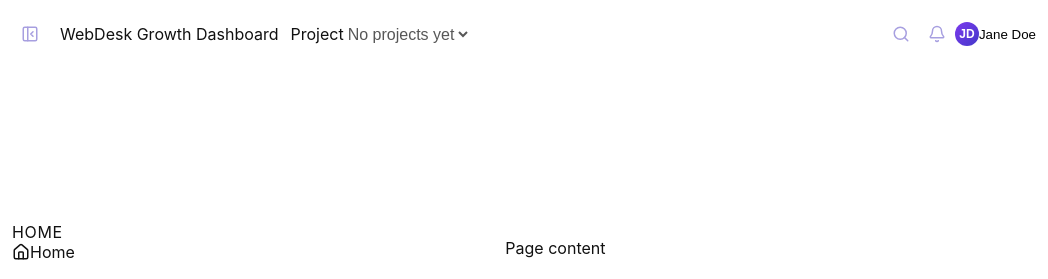
it: AppShell › sidebar collapse toggle › switches the nav links to icon-only (module icon, no label text) and back
This screenshot has width=1048, height=279.
Expected: the link "Home" is shown, [12,242,75,262]
Click the button named "Collapse sidebar".
click(30, 34)  # box [12,16,48,52]
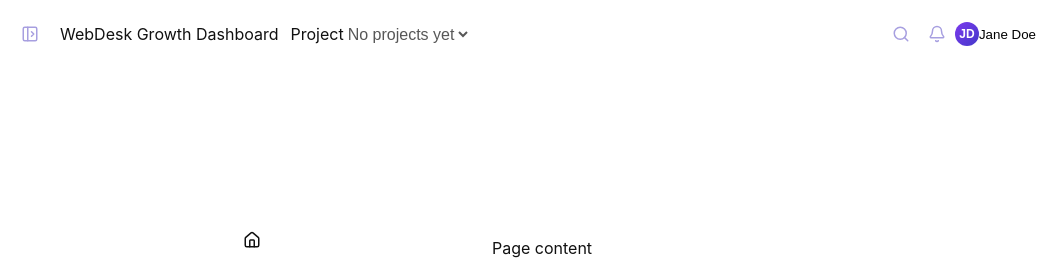
Result: the link named "Home" no longer shows "Home" at [243,231,261,249]
Click the button named "Expand sidebar".
click(30, 34)  # box [12,16,48,52]
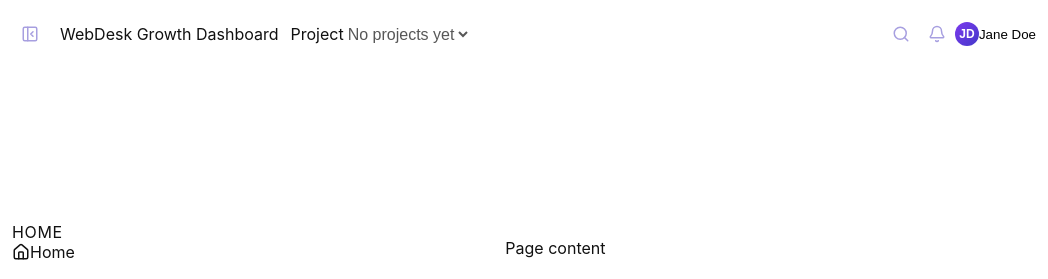
Result: the link "Home" is shown at [12,242,75,262]
